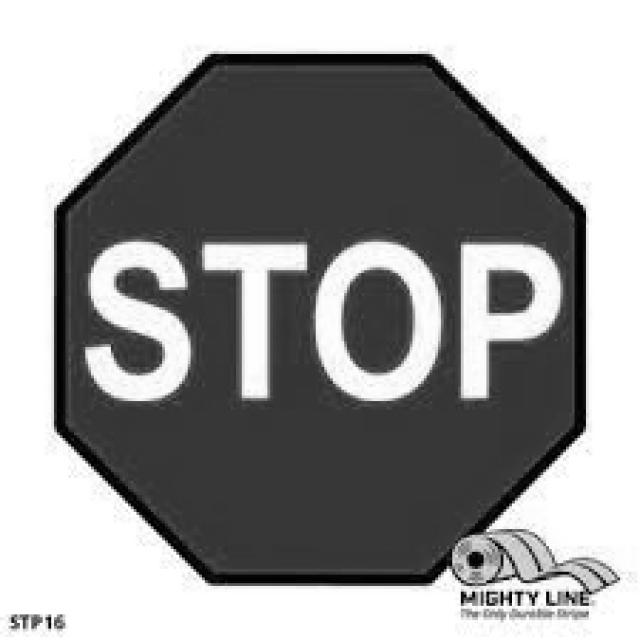stop sign: (60, 45, 585, 585)
